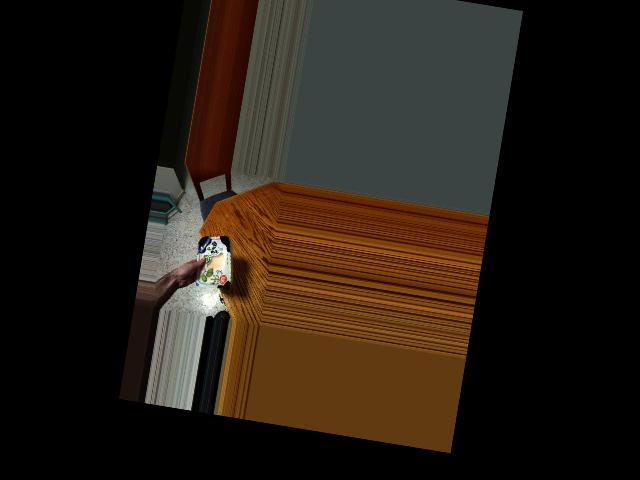cheese: (194, 233, 232, 286)
